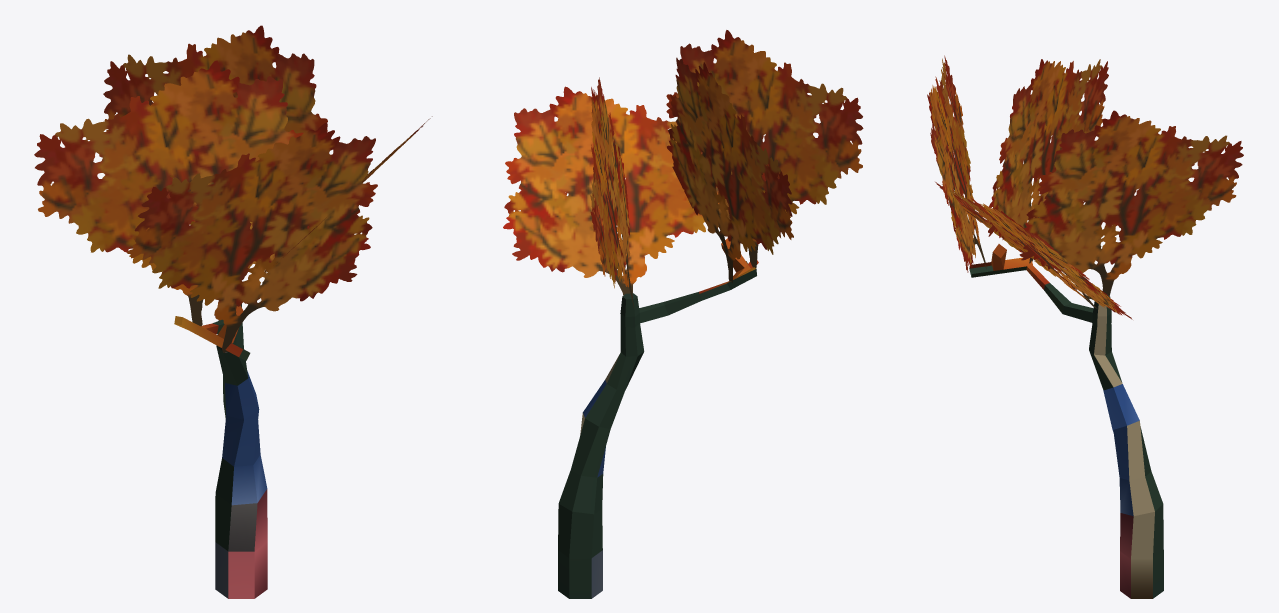
File: lab9.fbx
The picture shows the model from 3 angles, left to right: view 1: azimuth 30°, elevation 25°; view 2: azimuth 150°, elevation 25°; view 3: azimuth 270°, elevation 25°; orthographic projection. The views are drawn at different scales.
Parts seen in each view (by area): view 1: Leaves.001, Leaves.002, Tree, Leaves.003; view 2: Leaves, Leaves.001, Leaves.002, Tree, Leaves.003; view 3: Leaves.003, Tree, Leaves.002, Leaves.001, Leaves.
Part boxes in pixels (x1,y1,x2,y2): Leaves.001: [127, 122, 377, 352]; Leaves.002: [34, 60, 310, 326]; Tree: [174, 304, 267, 598]; Leaves.003: [103, 25, 327, 224]; Leaves: [503, 86, 718, 295]; Leaves.001: [666, 30, 863, 268]; Leaves.002: [667, 57, 793, 283]; Tree: [558, 238, 758, 598]; Leaves.003: [590, 77, 634, 307]; Leaves.003: [1019, 110, 1243, 295]; Tree: [969, 242, 1163, 598]; Leaves.002: [988, 59, 1108, 263]; Leaves.001: [927, 55, 986, 272]; Leaves: [935, 182, 1132, 319].
Bounding box in the file's own units: 1775 × 2565 × 1648.
